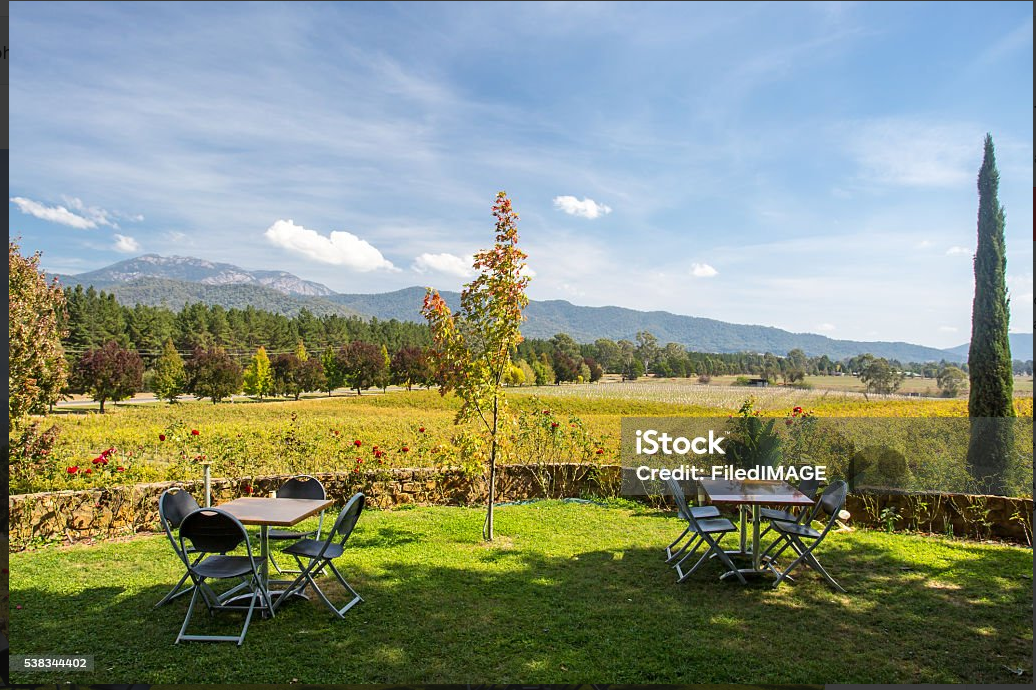obstacle: (694, 473, 811, 596), (173, 506, 272, 649), (214, 496, 328, 609), (765, 478, 862, 598), (290, 494, 370, 623), (646, 472, 735, 583)
